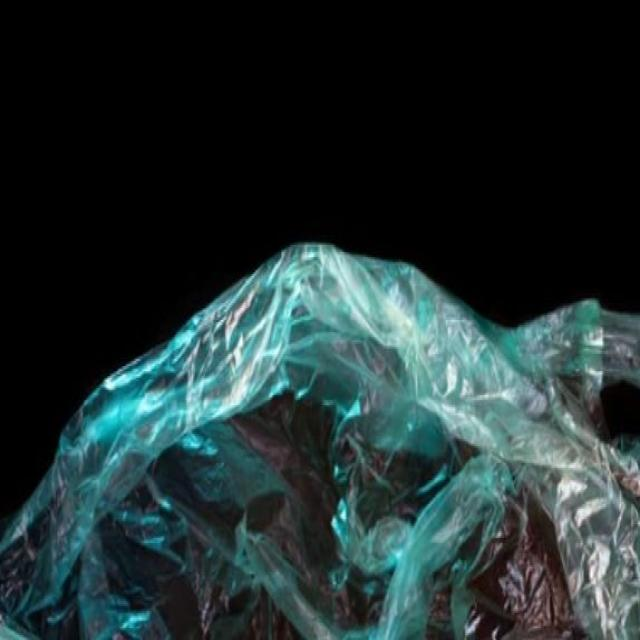general: (0, 238, 639, 638)
